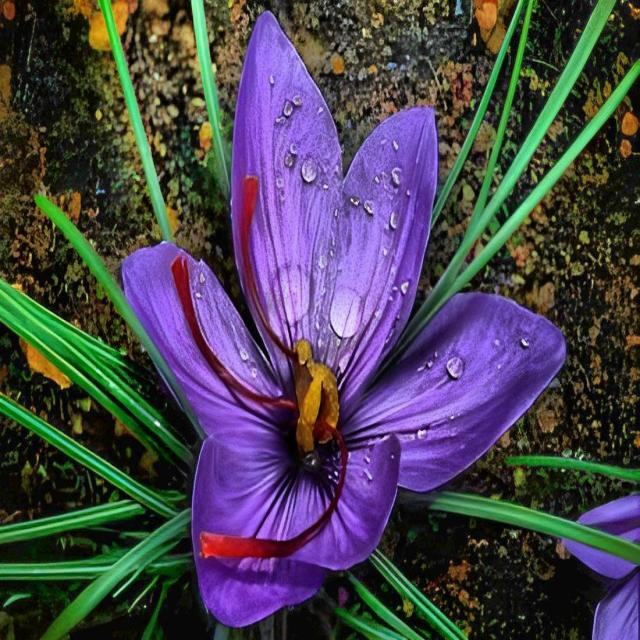Flower: (118, 7, 570, 635)
stigma: (198, 421, 348, 562), (171, 253, 298, 412), (240, 176, 300, 365)
